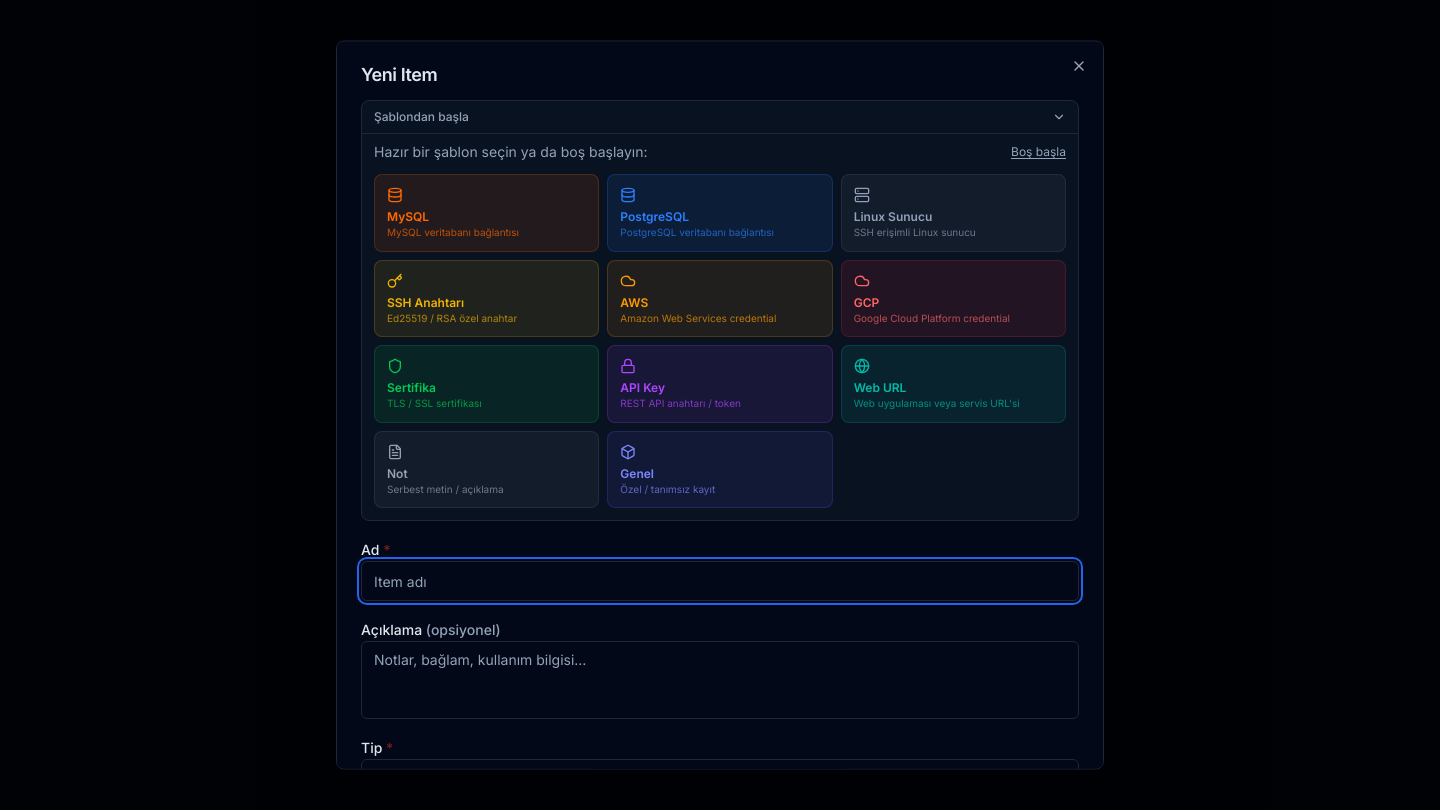
Test: ItemFormModal — create › enables submit when name is filled
Type "my-item" into the field labelled "Ad *".
click(720, 580); type("my-item")  # box [361,560,1079,600]
(page scrolled)
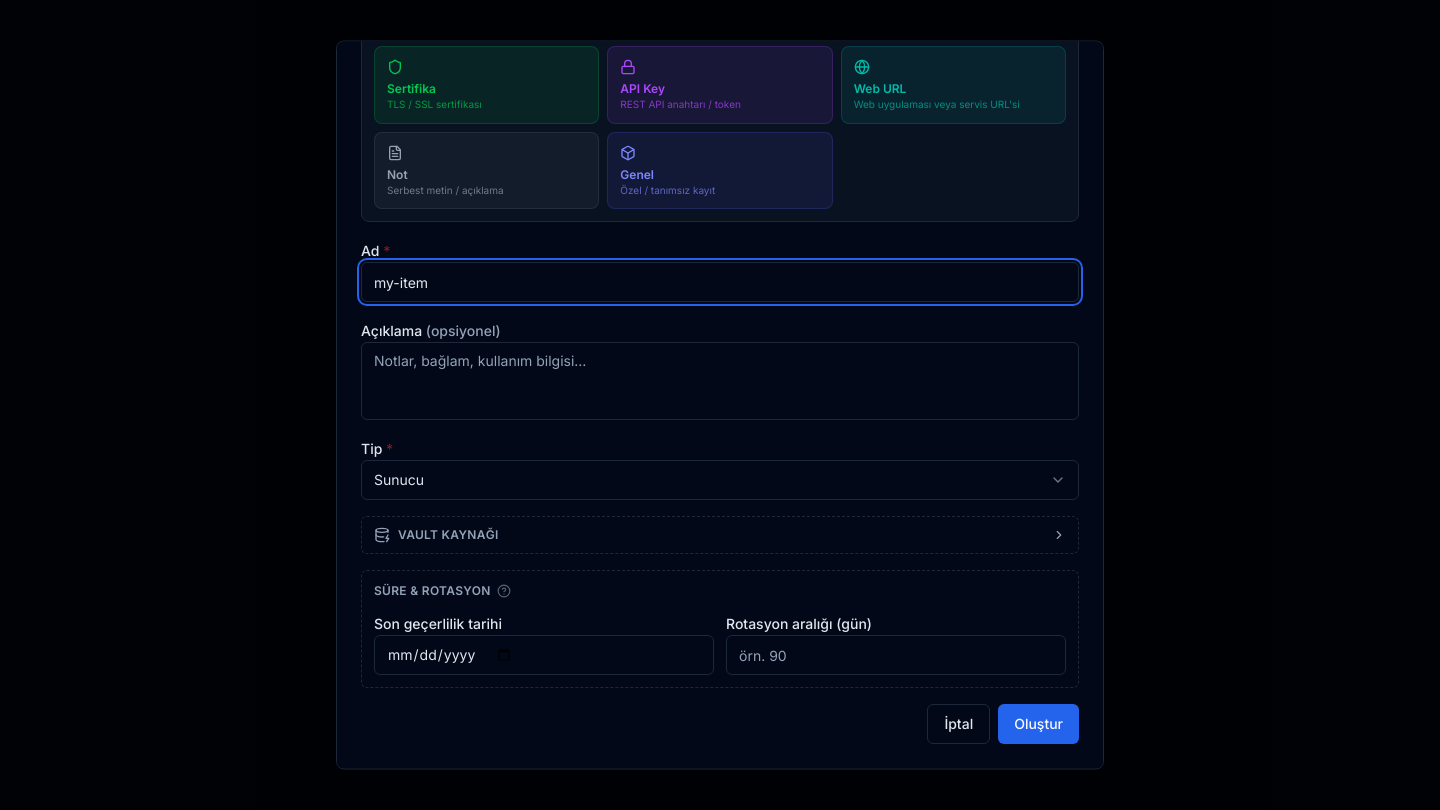
Expected: the button "Oluştur" is enabled, [998,704,1079,744]
